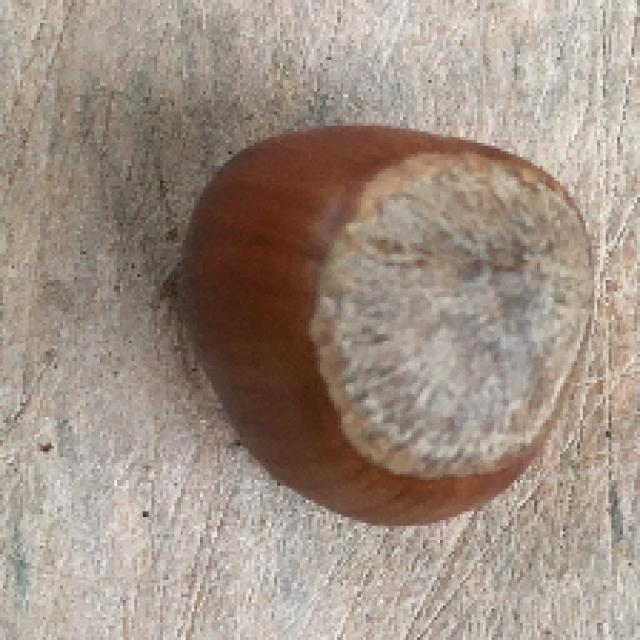qualityHazelnut: (187, 123, 598, 528)
